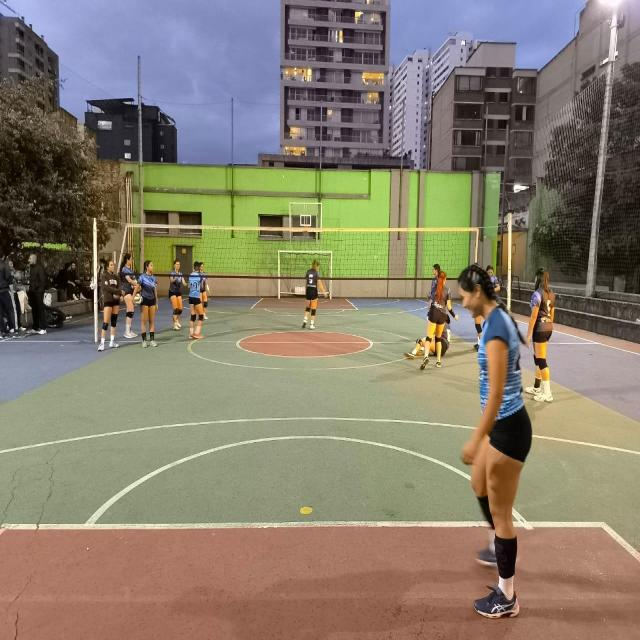volleyball: (134, 293, 142, 305)
